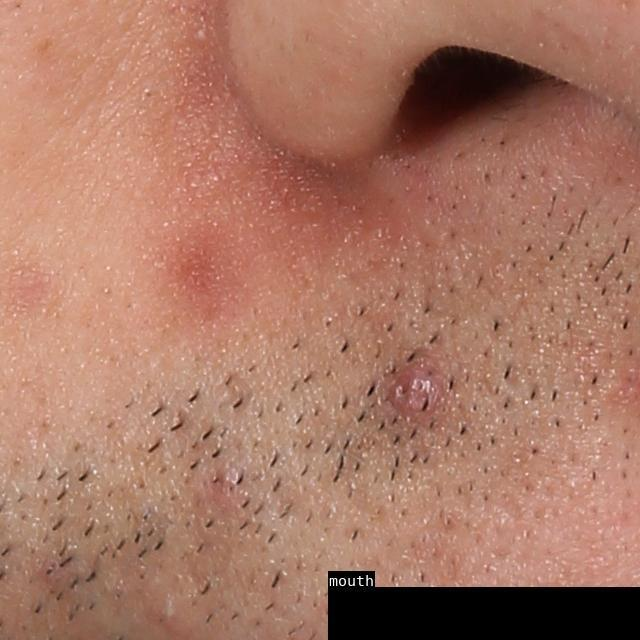papule: (379, 361, 442, 421)
